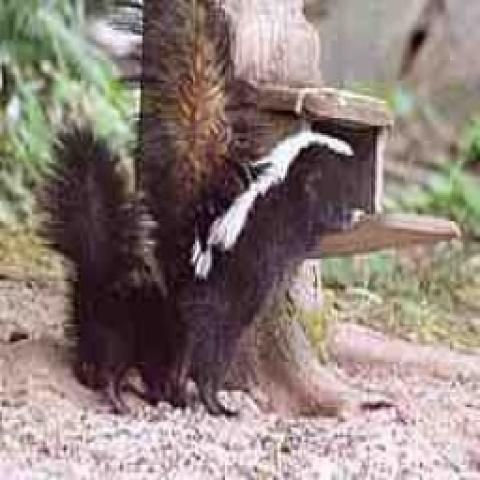small_animal: (157, 129, 357, 425), (38, 124, 183, 417)
